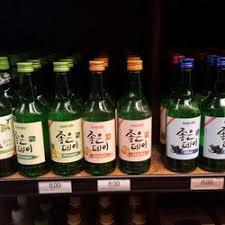soju: (1, 47, 225, 178)
